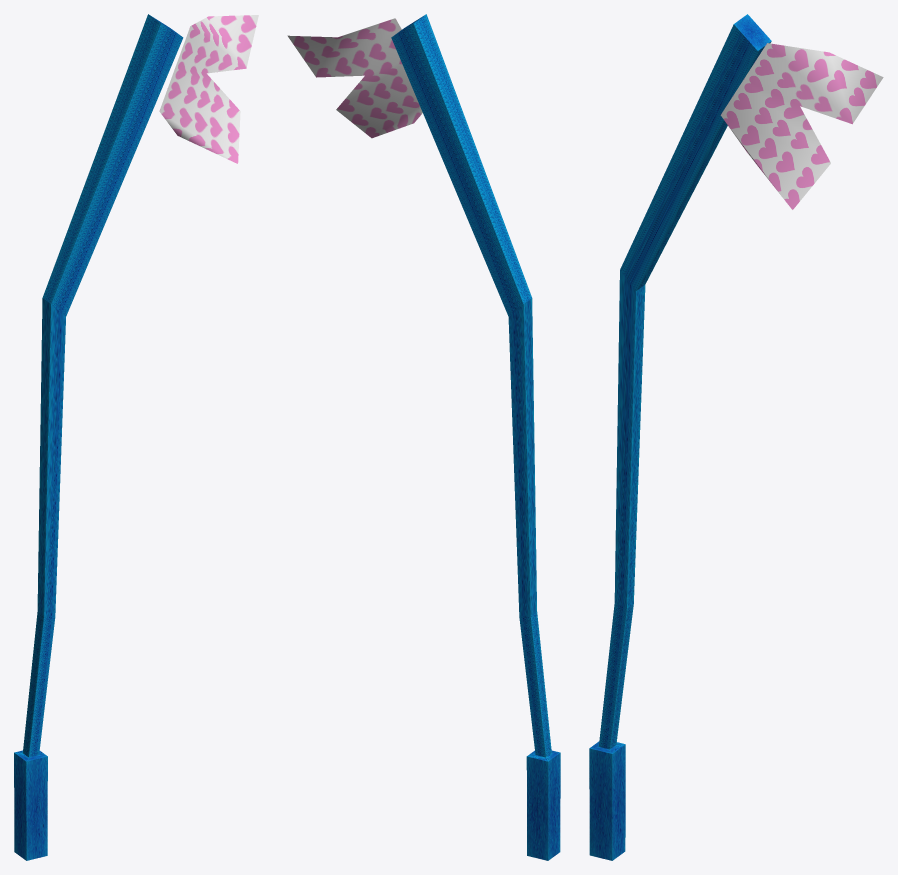
File: HD_GameAsset_FlagPole_Test_001.FBX
3 renders of one model, left to right at view 1: azimuth 30°, elevation 25°; view 2: azimuth 150°, elevation 25°; view 3: azimuth 330°, elevation 25°, orthographic. The views are drawn at different scales.
Visible parts, largest first — view 1: HD_GameAsset_FlagPole_Test_001; view 2: HD_GameAsset_FlagPole_Test_001; view 3: HD_GameAsset_FlagPole_Test_001.
Part boxes in pixels (x1,y1,x2,y2): HD_GameAsset_FlagPole_Test_001: (14,14,258,860); HD_GameAsset_FlagPole_Test_001: (287,14,560,860); HD_GameAsset_FlagPole_Test_001: (589,14,883,860).
Size of the model in its own units: 111 by 338 by 24.24.
Materials: 2 (2 with a texture image).
